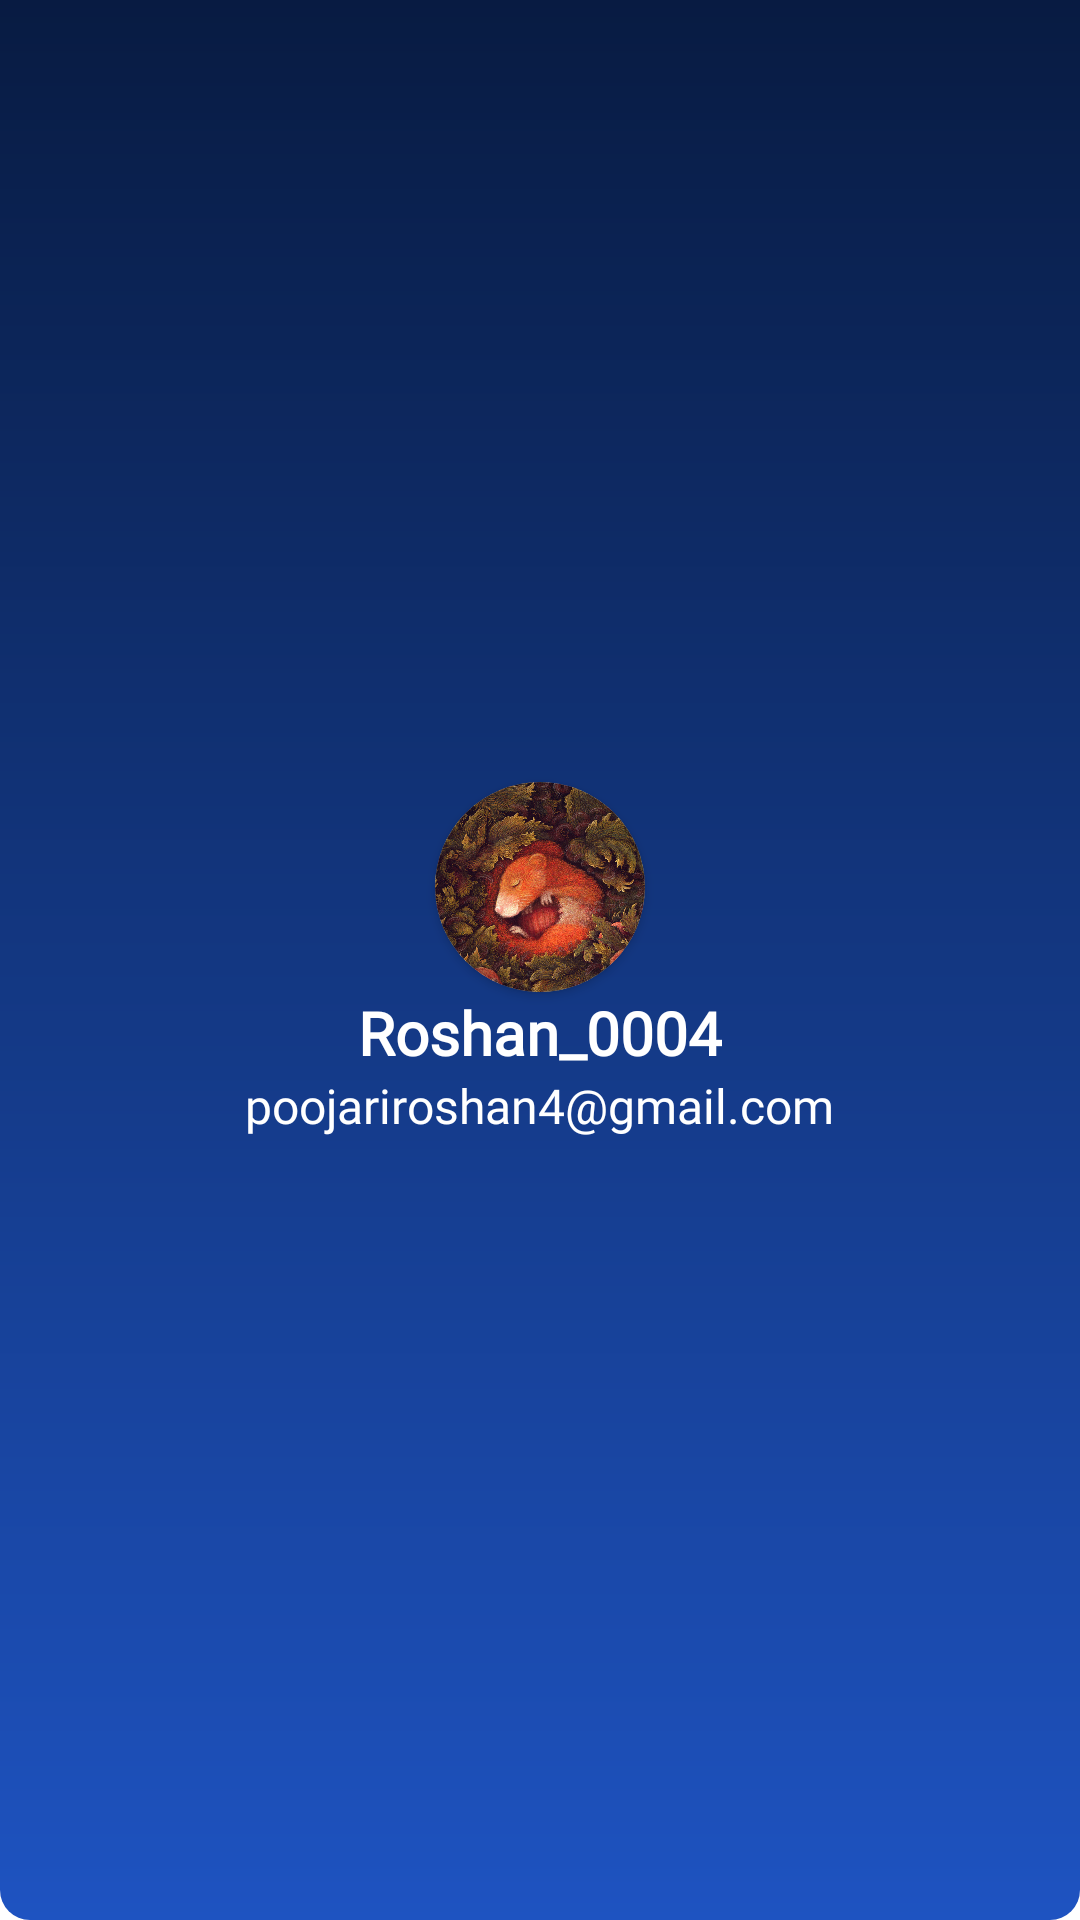

Named icons in this screenshot (1080w x 1920h) and their centers, (x,y):
demo profile: (540,887)
